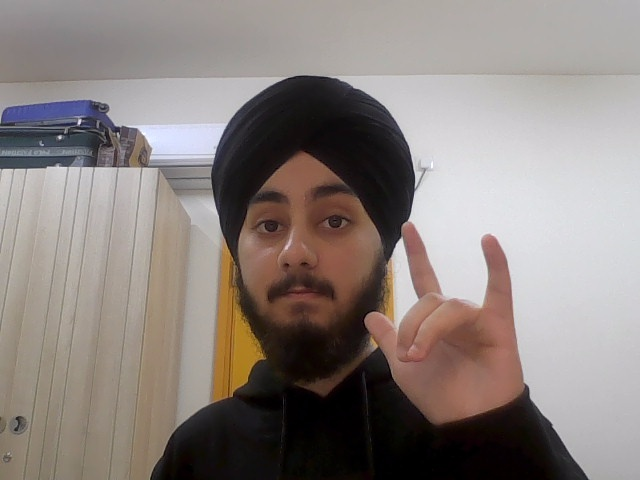ILoveYou: (362, 218, 552, 423)
